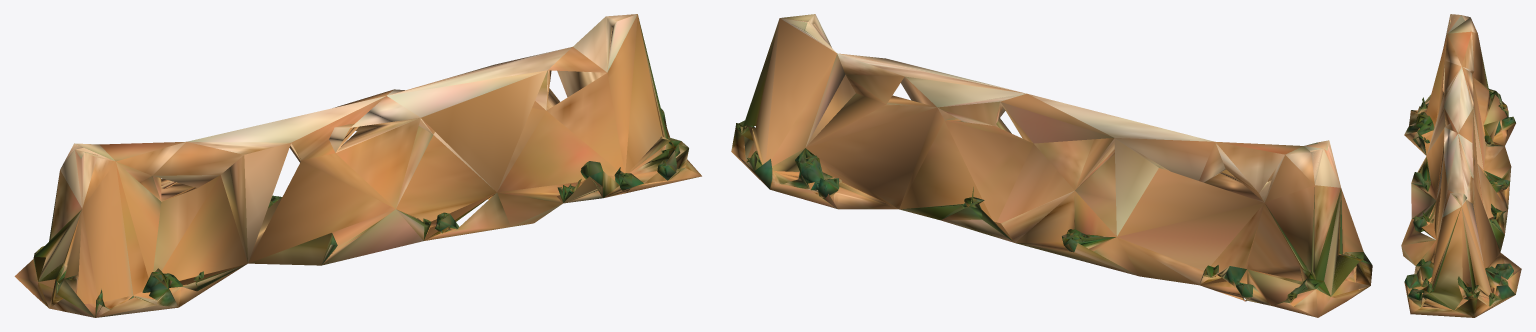
File: wseg.glb
The picture shows the model from 3 angles, left to right: view 1: azimuth 30°, elevation 25°; view 2: azimuth 150°, elevation 25°; view 3: azimuth 270°, elevation 25°; orthographic projection. The views are drawn at different scales.
Parts seen in each view (by area): view 1: wseg; view 2: wseg; view 3: wseg.
Boxes of the visible parts, x1,y1,x2,y2 form: wseg: [14, 14, 701, 317]; wseg: [731, 14, 1372, 317]; wseg: [1401, 14, 1521, 317].
Size of the model in its own units: 1.83 by 0.4081 by 0.4316.
1 material, 1 textured.
